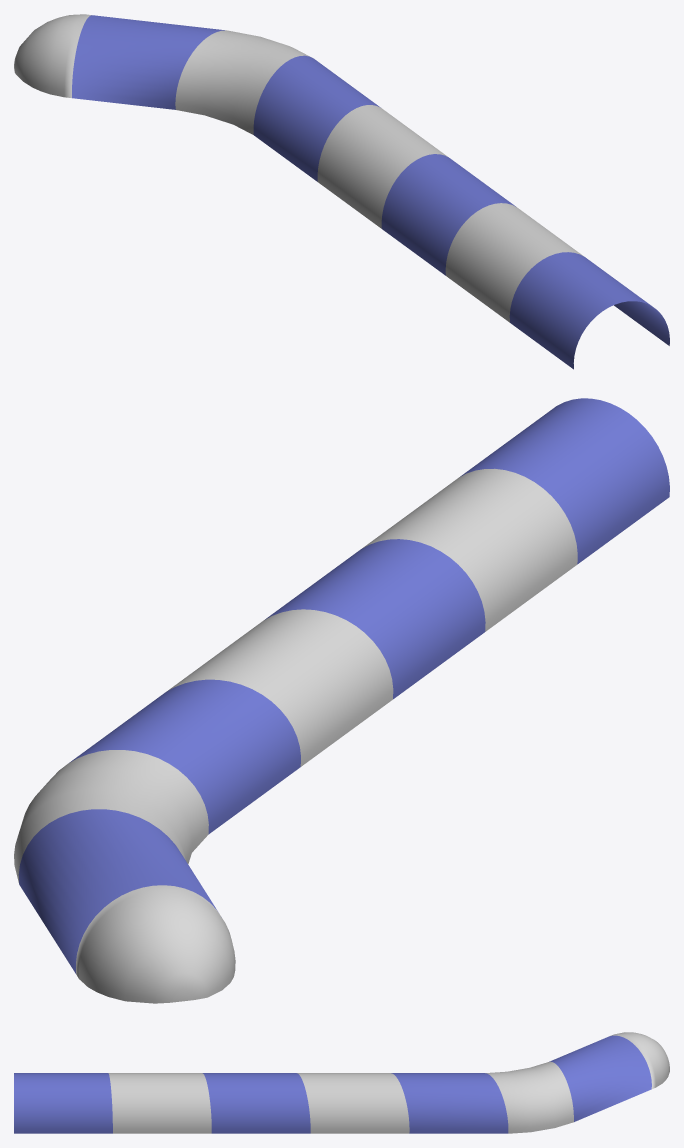
File: PonteiroMeias.dae
The picture shows the model from 3 angles, top to bottom: view 1: azimuth 30°, elevation 25°; view 2: azimuth 150°, elevation 25°; view 3: azimuth 270°, elevation 25°; orthographic projection. The views are drawn at different scales.
Visible parts, largest first — view 1: Sock; view 2: Sock; view 3: Sock.
Boxes of the visible parts, left/top/right/bottom form: Sock: left=14, top=14, right=669, bottom=369; Sock: left=14, top=398, right=669, bottom=1003; Sock: left=14, top=1032, right=669, bottom=1133.
Bounding box in the file's own units: 0.3759 × 1.37 × 0.0926.
